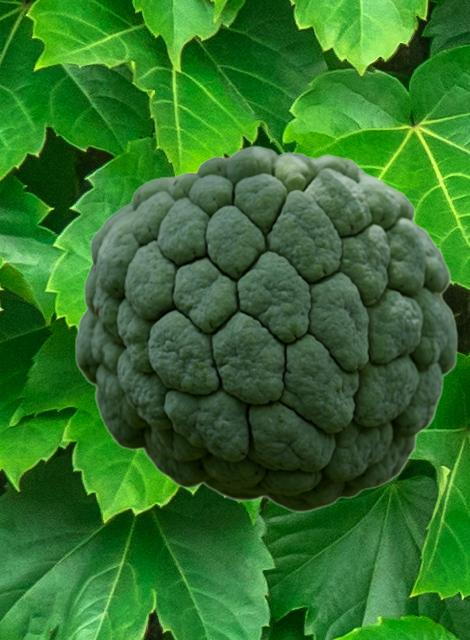atis: (74, 145, 457, 512)
